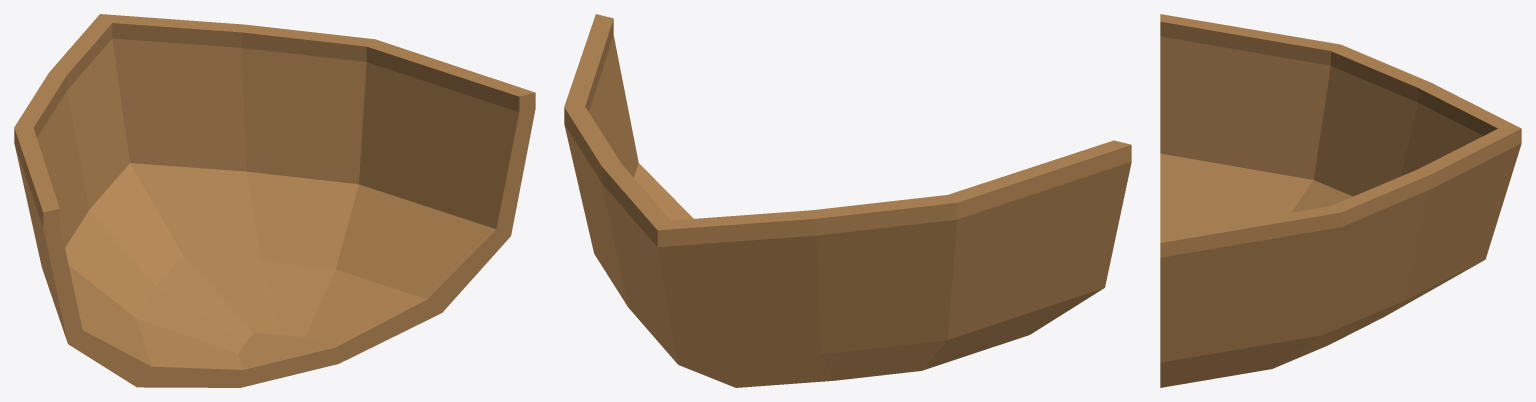
File: BOTTOM_BOW.glb
The picture shows the model from 3 angles, left to right: view 1: azimuth 30°, elevation 25°; view 2: azimuth 150°, elevation 25°; view 3: azimuth 270°, elevation 25°; orthographic projection. The views are drawn at different scales.
Size of the model in its own units: 6 by 2.6 by 4.
